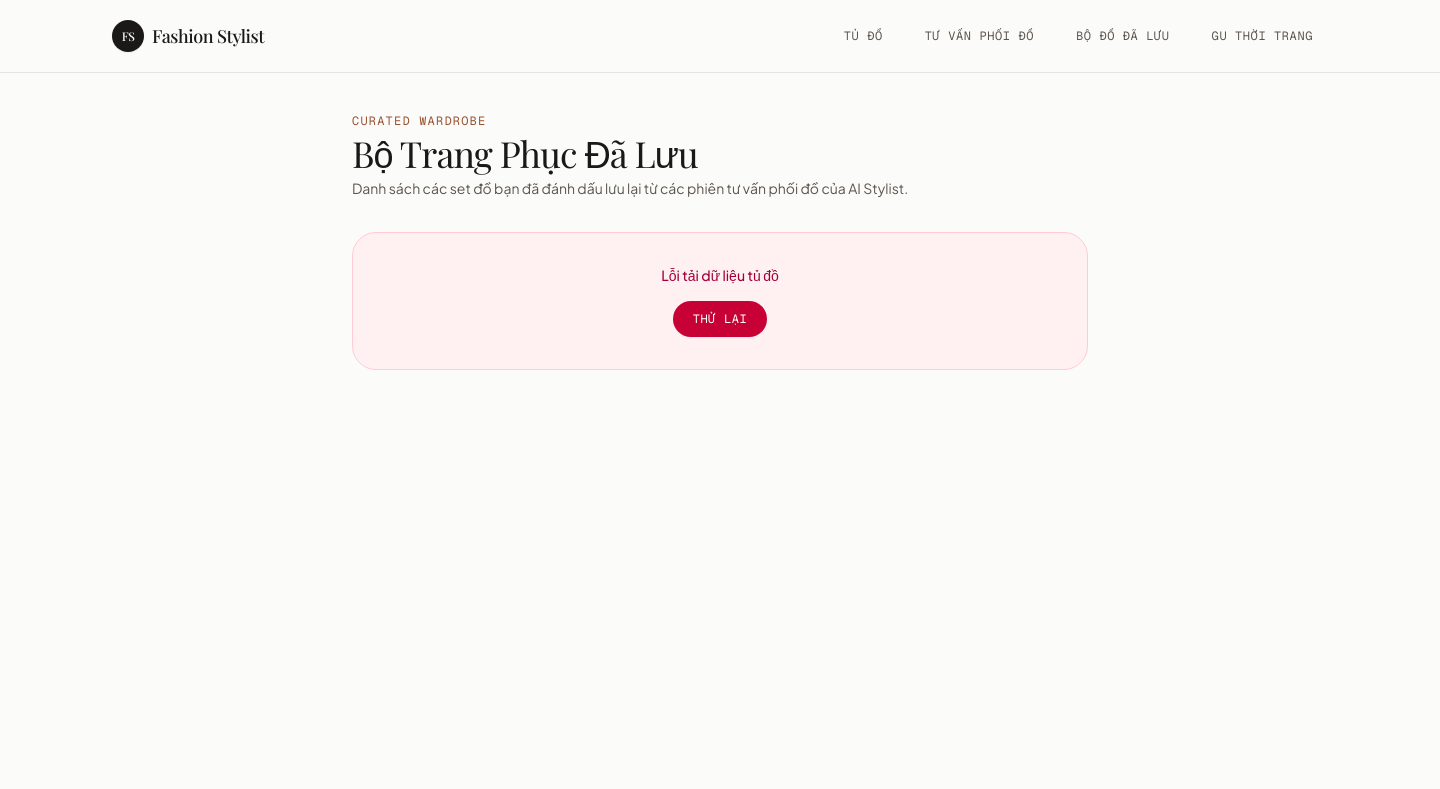
Test: SavedOutfitsPage Integration › renders error state and handles retry button click
Expected: the message "Lỗi tải dữ liệu tủ đồ Thử lại" is shown, [352, 232, 1088, 370]
Expected: the text "Lỗi tải dữ liệu tủ đồ" is shown, [661, 266, 779, 284]
Click the button "Thử lại" at (720, 319), box [673, 301, 767, 337]
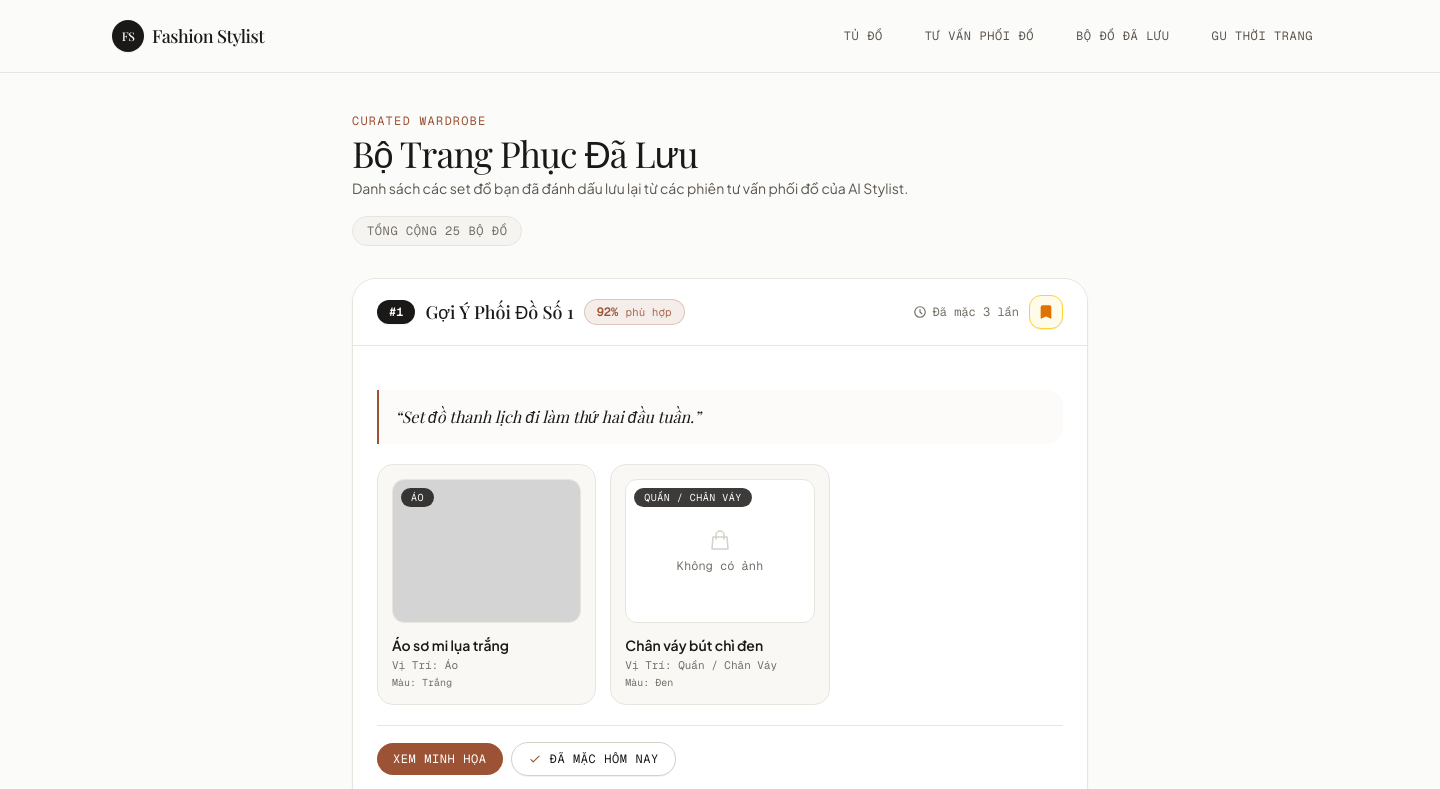
Result: the text "“Set đồ thanh lịch đi làm thứ hai đầu tuần.”" is shown at [377, 390, 1063, 444]
